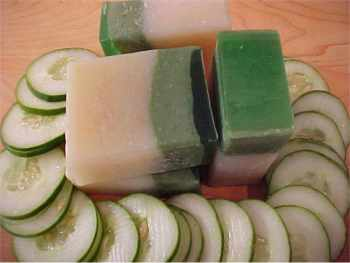cucumber: (19, 197, 111, 262), (115, 191, 180, 262), (22, 46, 99, 101)
